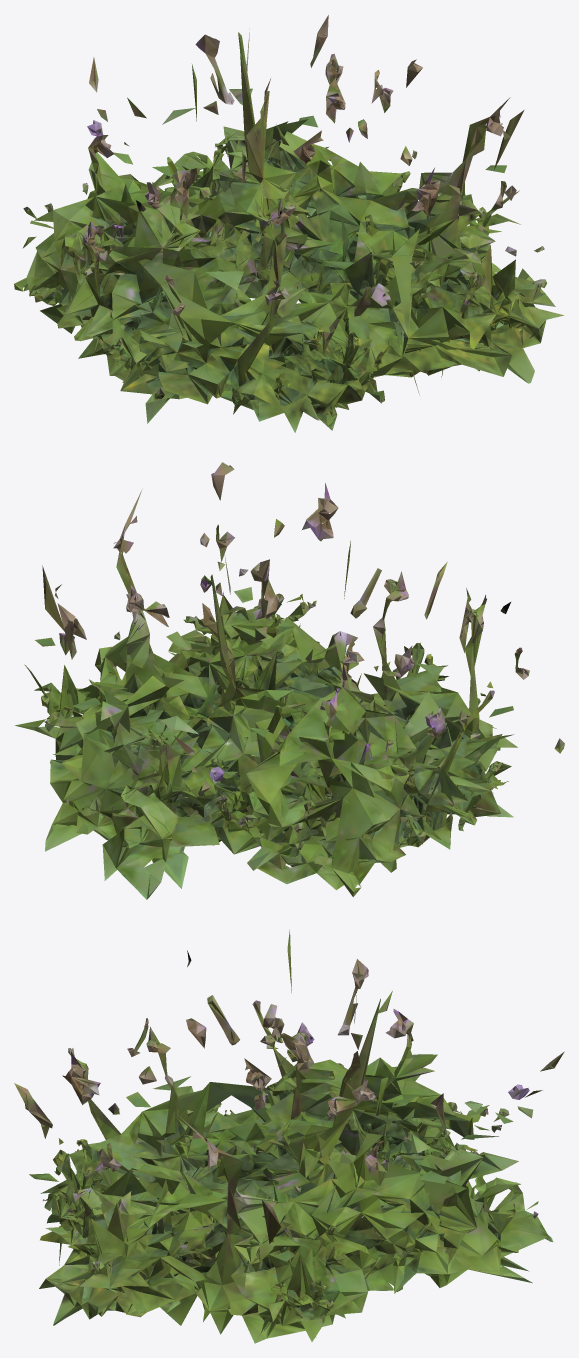
The model's file is A_wide_expanse_of_unr_0620194936_texture.fbx.
3 views of the same model, one above another, from view 1: azimuth 30°, elevation 25°; view 2: azimuth 150°, elevation 25°; view 3: azimuth 270°, elevation 25° (orthographic).
Parts seen in each view (by area): view 1: temp; view 2: temp; view 3: temp.
Boxes of the visible parts, x1=… form: temp: x1=14, y1=15, x2=564, y2=432; temp: x1=14, y1=462, x2=564, y2=899; temp: x1=14, y1=929, x2=564, y2=1343.
Size of the model in its own units: 177 by 110 by 187.
1 material, 1 textured.
